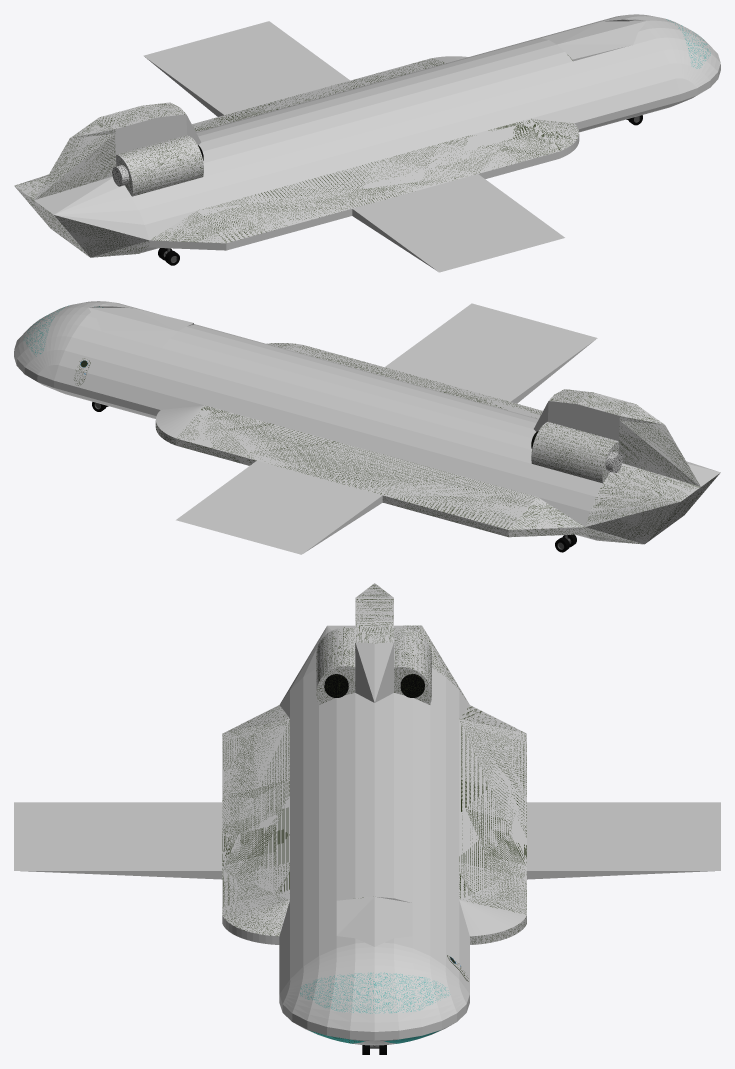
The picture shows the model from 3 angles, top to bottom: view 1: azimuth 30°, elevation 25°; view 2: azimuth 150°, elevation 25°; view 3: azimuth 270°, elevation 25°; orthographic projection. The views are drawn at different scales.
Parts seen in each view (by area): view 1: mesh3.001_mesh3-geometry; view 2: mesh3.001_mesh3-geometry; view 3: mesh3.001_mesh3-geometry.
Part boxes in pixels (x1,y1,x2,y2): mesh3.001_mesh3-geometry: (14,14,720,272); mesh3.001_mesh3-geometry: (14,301,720,554); mesh3.001_mesh3-geometry: (14,583,720,1045).
Size of the model in its own units: 0.7886 by 0.1422 by 0.5982.
